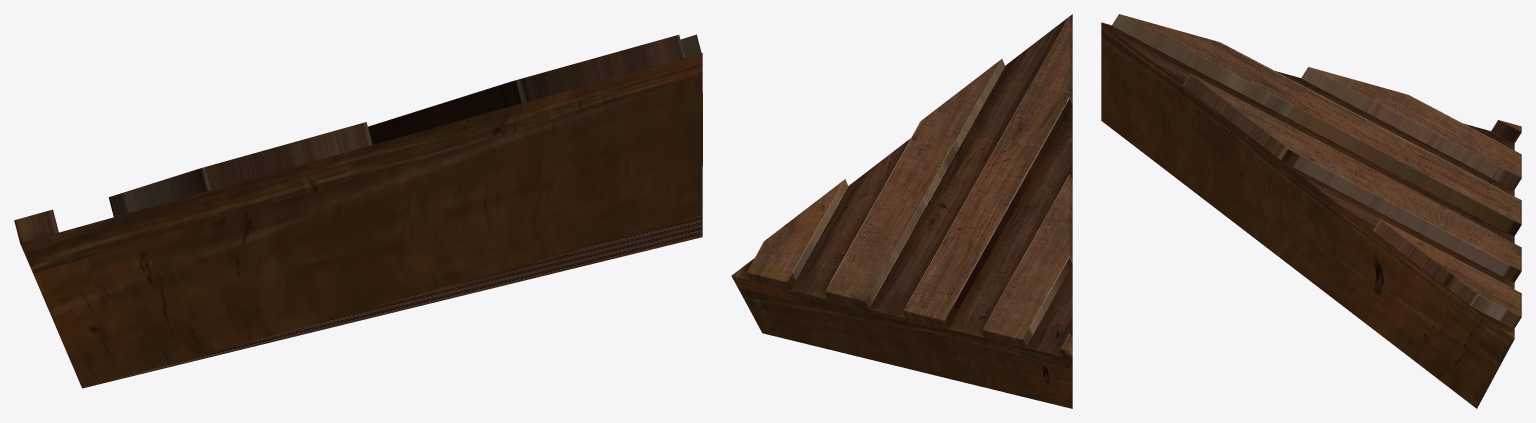
3 renders of one model, left to right at view 1: azimuth 30°, elevation 25°; view 2: azimuth 150°, elevation 25°; view 3: azimuth 270°, elevation 25°, orthographic. The views are drawn at different scales.
Visible parts, largest first — view 1: SM_BB_T2_Roof_Triangle_Shallow_Med_Inverted_LOD0; view 2: SM_BB_T2_Roof_Triangle_Shallow_Med_Inverted_LOD0; view 3: SM_BB_T2_Roof_Triangle_Shallow_Med_Inverted_LOD0.
Part boxes in pixels (left/top/right/bottom): SM_BB_T2_Roof_Triangle_Shallow_Med_Inverted_LOD0: left=14, top=34, right=702, bottom=388; SM_BB_T2_Roof_Triangle_Shallow_Med_Inverted_LOD0: left=731, top=14, right=1072, bottom=408; SM_BB_T2_Roof_Triangle_Shallow_Med_Inverted_LOD0: left=1101, top=14, right=1521, bottom=408.
Size of the model in its own units: 1.65 by 1.15 by 1.45.
2 materials, 2 textured.
